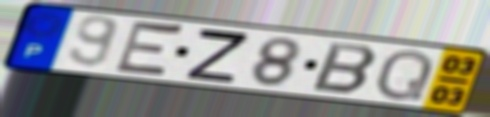8: (250, 37, 306, 88)
9: (66, 13, 123, 72)
B: (308, 40, 381, 96)
E: (110, 17, 189, 81)
Q: (372, 48, 438, 103)
Z: (183, 26, 253, 85)
